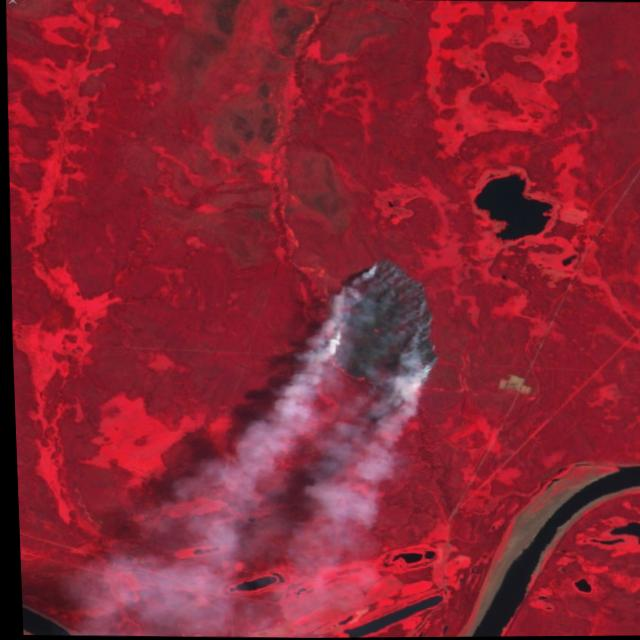fire: (310, 252, 454, 402)
